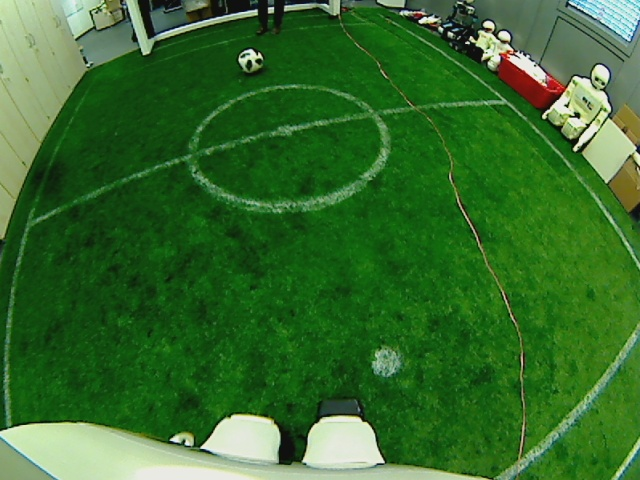ball: (236, 47, 265, 73)
